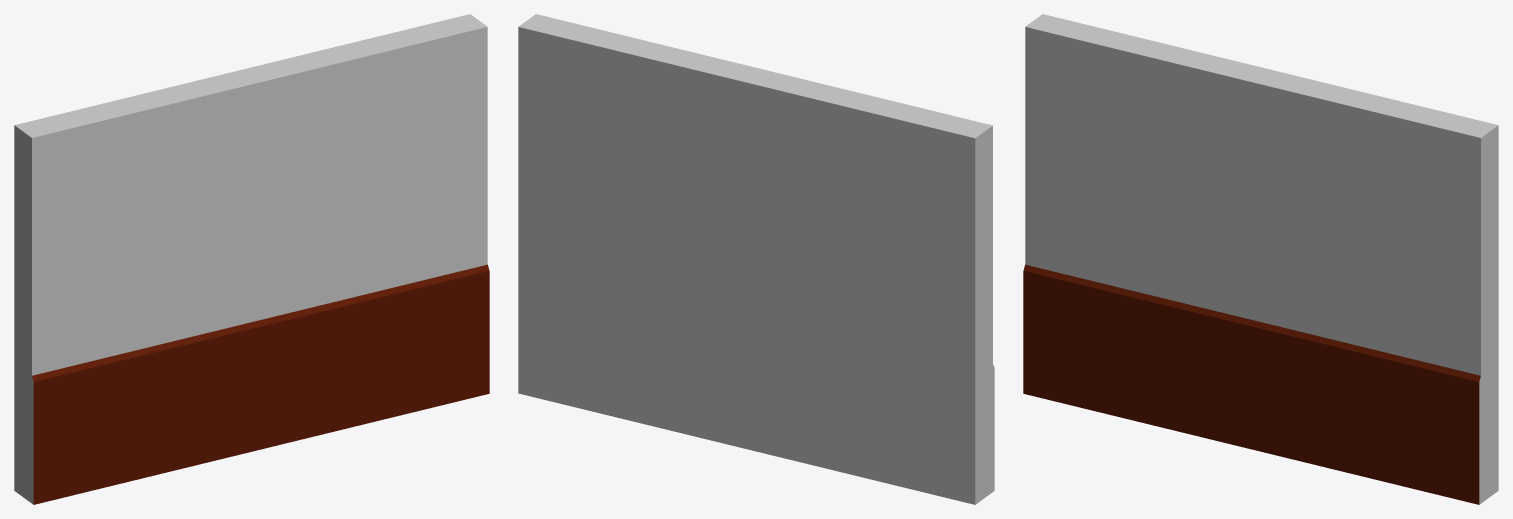
File: SM_BasicWall.FBX
The picture shows the model from 3 angles, left to right: view 1: azimuth 30°, elevation 25°; view 2: azimuth 150°, elevation 25°; view 3: azimuth 330°, elevation 25°; orthographic projection.
Parts seen in each view (by area): view 1: BasicWall; view 2: BasicWall; view 3: BasicWall.
Boxes of the visible parts, <box> form: BasicWall: <box>14,14,489,504</box>; BasicWall: <box>518,14,994,504</box>; BasicWall: <box>1023,14,1498,504</box>.
Size of the model in its own units: 118 by 90.55 by 8.63.
